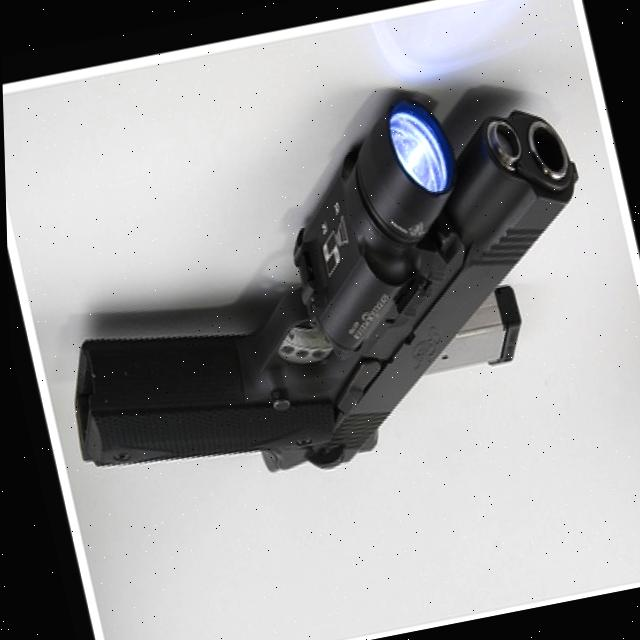pistol: (13, 68, 628, 513)
